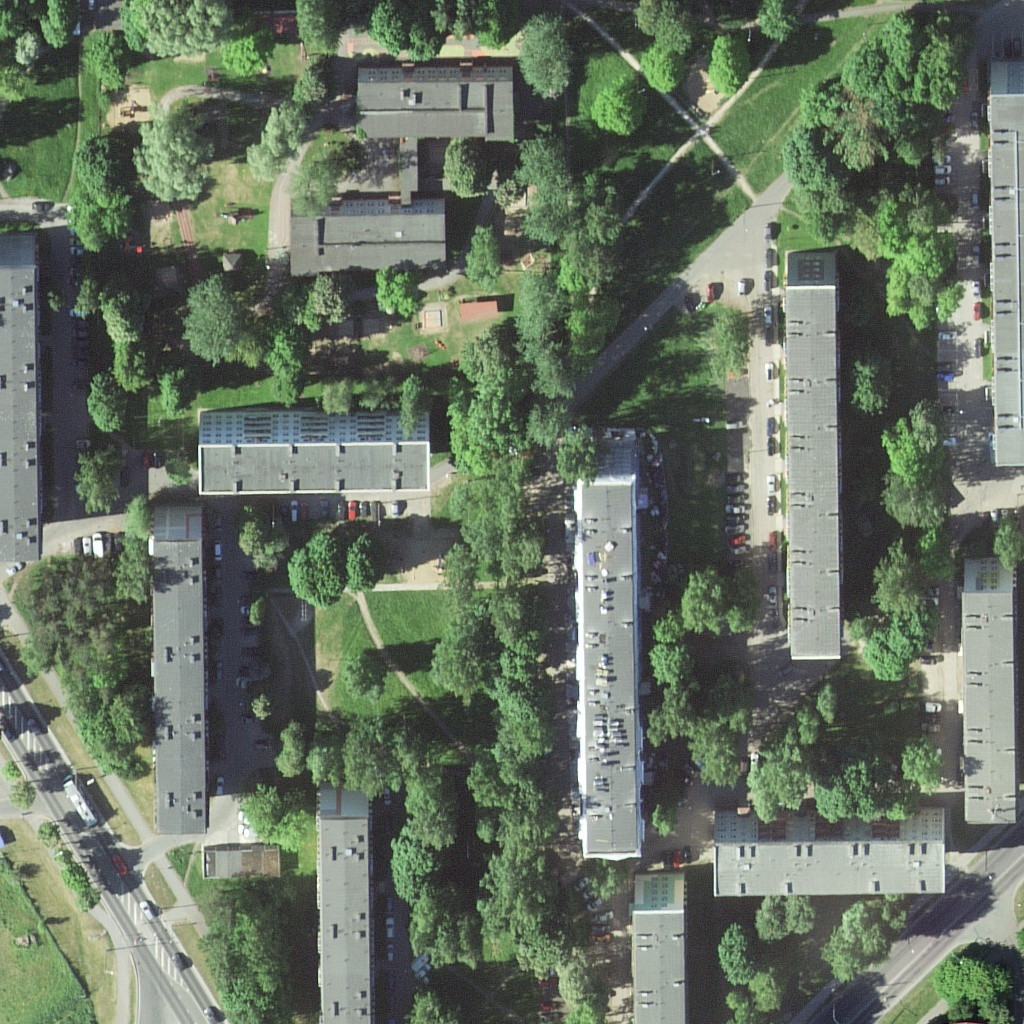building: (571, 436, 645, 864), (782, 257, 845, 670), (196, 406, 440, 502), (145, 504, 215, 833), (709, 815, 950, 899), (981, 55, 1021, 470), (960, 563, 1022, 828), (312, 788, 376, 1024), (285, 192, 452, 277), (349, 64, 521, 145), (1, 263, 44, 569), (629, 872, 690, 1024)
